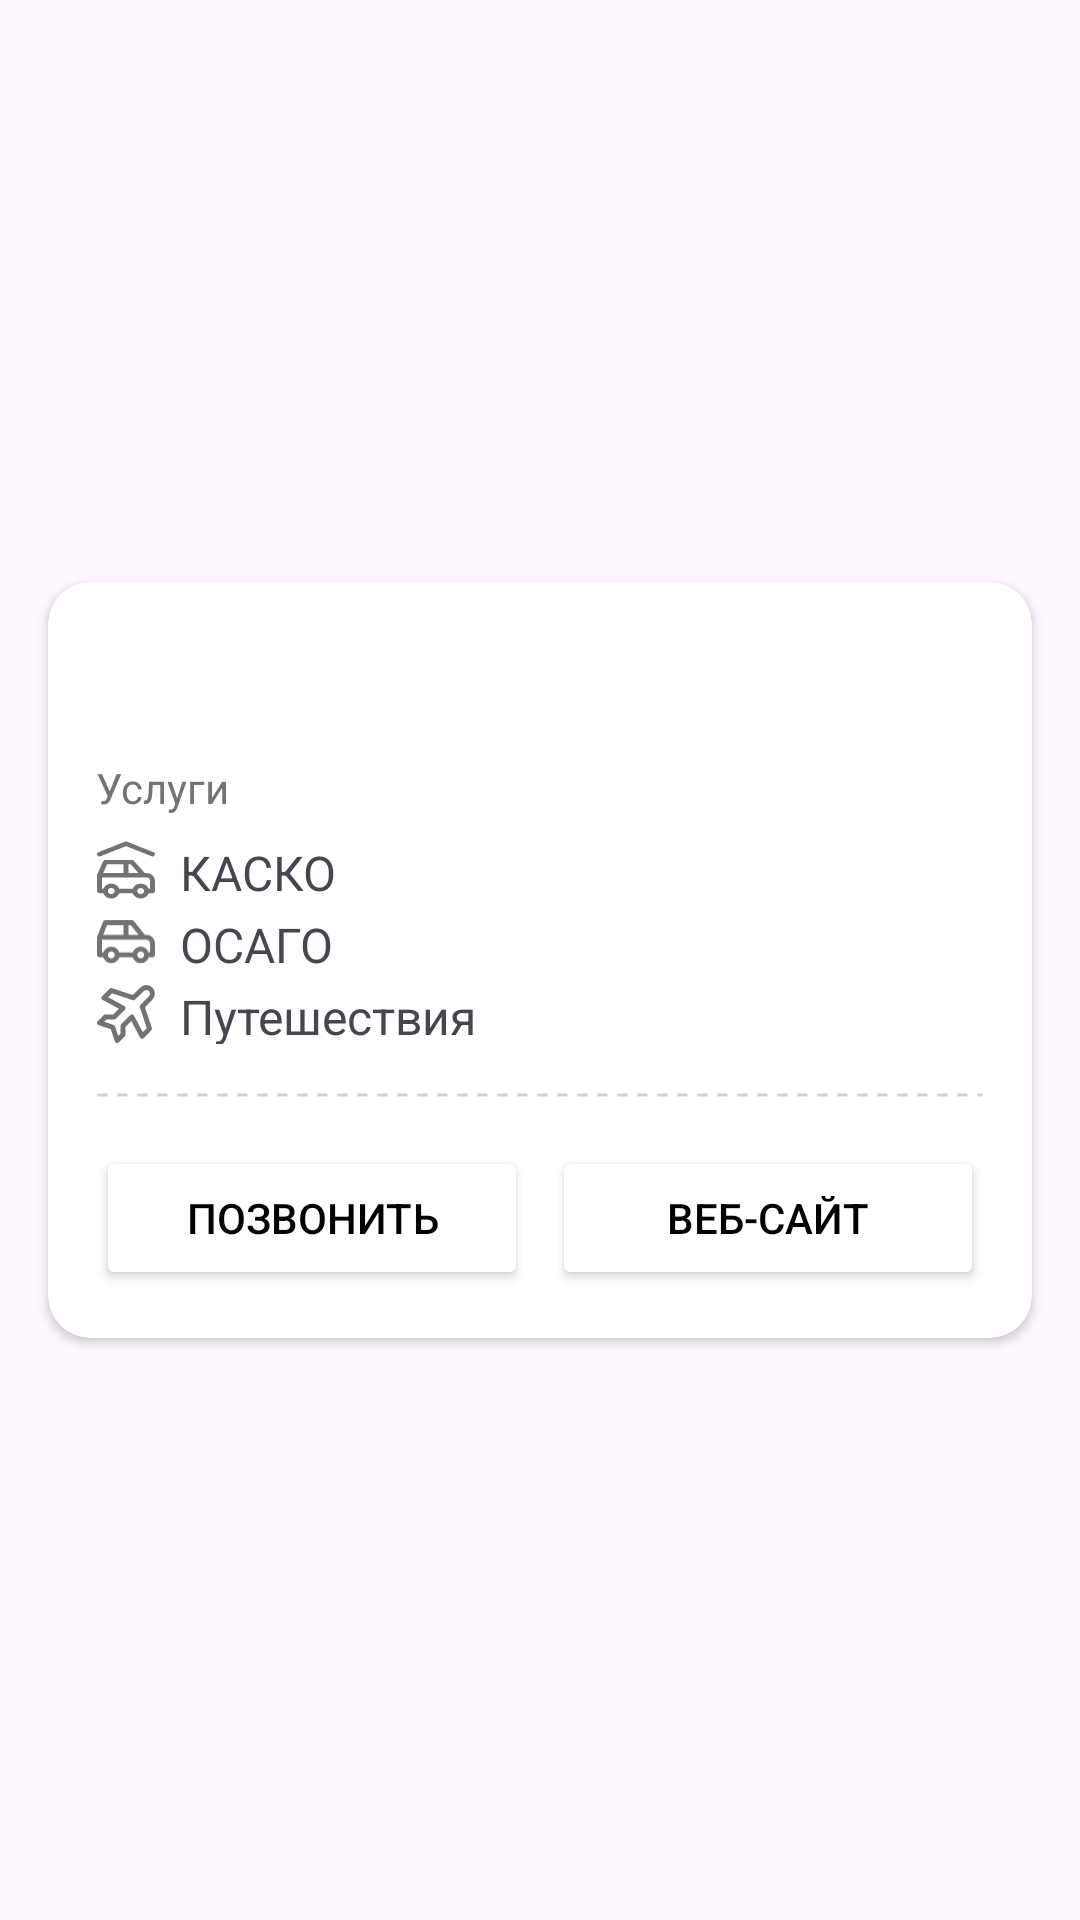

Screen size 1080 × 1920. Icon name, then its center in pixels as (x,y):
insur kasko ib: (126,870)
insur osago ib: (126,942)
insur travel ib: (126,1014)
